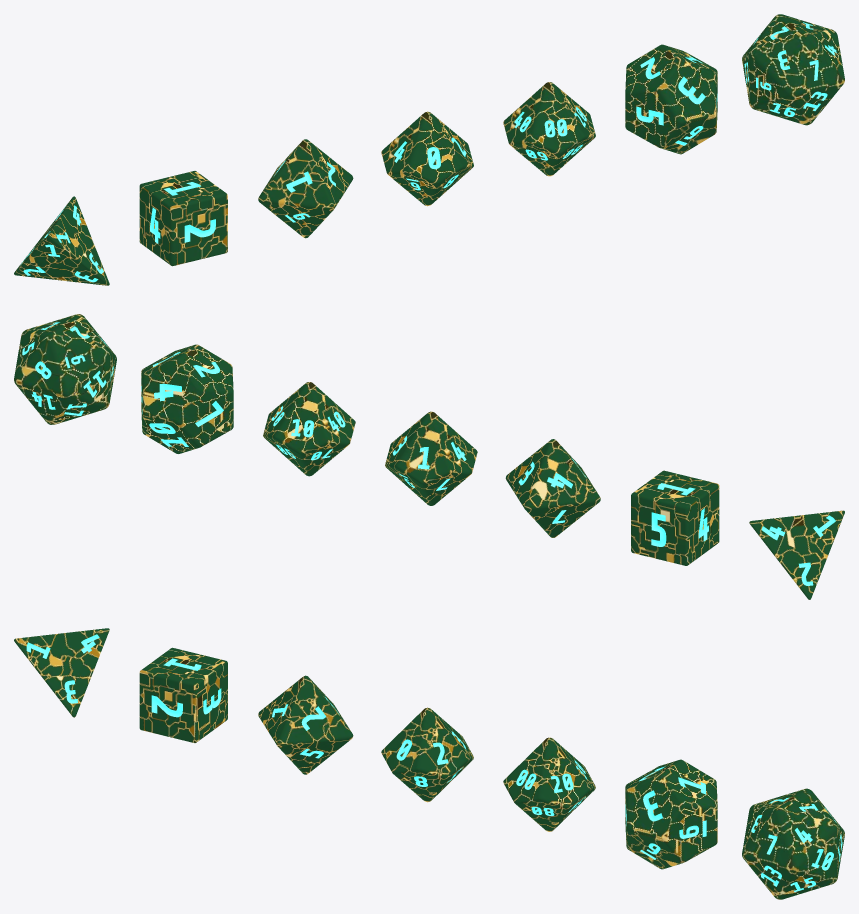
Rendered from circuit-board.glb.
3 views of the same model, one above another, from view 1: azimuth 30°, elevation 25°; view 2: azimuth 150°, elevation 25°; view 3: azimuth 330°, elevation 25° (orthographic).
Parts seen in each view (by area): view 1: d20, d12, d6, d100, d10, d8, d4; view 2: d20, d12, d6, d100, d10, d8, d4; view 3: d20, d12, d6, d8, d10, d100, d4.
Boxes of the visible parts, left/top/right/bottom form: d20: left=742, top=14, right=844, bottom=125; d12: left=625, top=44, right=717, bottom=154; d6: left=139, top=171, right=227, bottom=266; d100: left=503, top=82, right=595, bottom=176; d10: left=381, top=111, right=473, bottom=206; d8: left=258, top=139, right=353, bottom=238; d4: left=14, top=196, right=109, bottom=285; d20: left=14, top=314, right=116, bottom=424; d12: left=141, top=344, right=233, bottom=453; d6: left=631, top=470, right=719, bottom=565; d100: left=263, top=382, right=355, bottom=476; d10: left=385, top=411, right=477, bottom=505; d8: left=505, top=439, right=600, bottom=537; d4: left=749, top=510, right=844, bottom=599; d20: left=742, top=788, right=844, bottom=899; d12: left=625, top=759, right=717, bottom=869; d6: left=139, top=647, right=227, bottom=742; d8: left=258, top=675, right=353, bottom=774; d10: left=381, top=707, right=473, bottom=802; d100: left=503, top=737, right=595, bottom=831; d4: left=14, top=628, right=109, bottom=717.
Size of the model in its own units: 21.14 by 2.47 by 2.47.
Materials: 14 (7 with a texture image).
